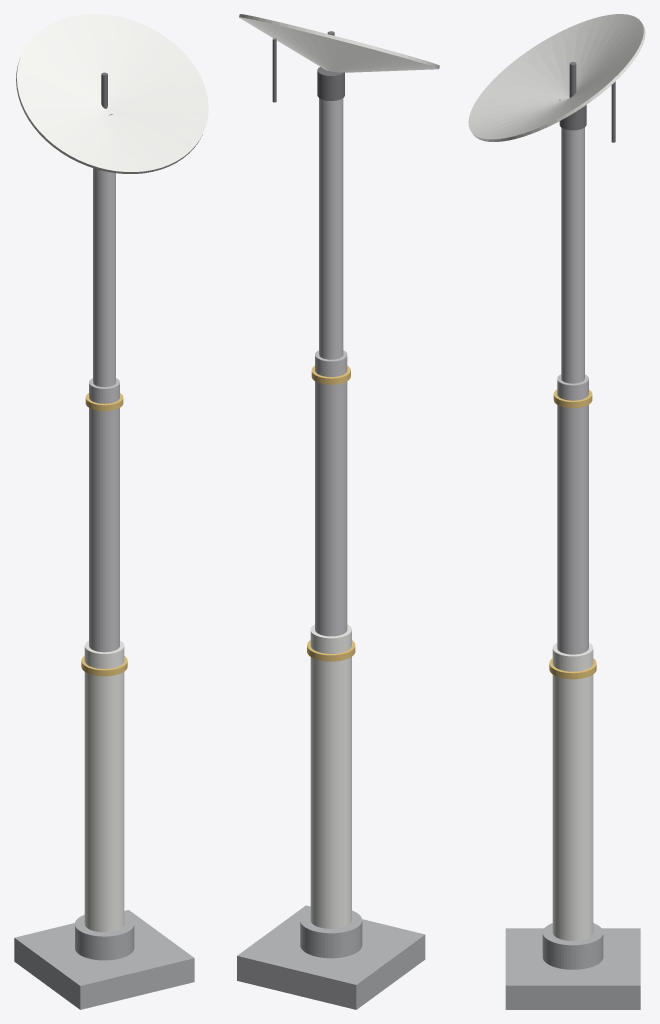
Rendered from rover36_antenna_mast_extended.glb.
The picture shows the model from 3 angles, left to right: view 1: azimuth 30°, elevation 25°; view 2: azimuth 150°, elevation 25°; view 3: azimuth 270°, elevation 25°; orthographic projection. The views are drawn at different scales.
Visible parts, largest first — view 1: head_dish, base, mast_1, mast_2, mast_3, mast_collars; view 2: base, mast_1, mast_2, mast_3, head_dish, head_gimbal, mast_collars; view 3: head_dish, mast_1, base, mast_2, mast_3, mast_collars, head_gimbal.
Part boxes in pixels (x1,y1,x2,y2): head_dish: (16, 14, 208, 173); base: (14, 910, 194, 1009); mast_1: (84, 640, 124, 932); mast_2: (89, 378, 119, 652); mast_3: (93, 168, 115, 387); mast_collars: (81, 393, 127, 676); base: (237, 905, 425, 1009); mast_1: (310, 624, 351, 928); mast_2: (315, 350, 347, 636); mast_3: (319, 98, 343, 359); head_dish: (239, 14, 439, 72); head_gimbal: (317, 31, 344, 100); mast_collars: (307, 365, 355, 661); head_dish: (468, 14, 645, 141); mast_1: (552, 643, 593, 940); base: (505, 923, 640, 1009); mast_2: (557, 374, 588, 654); mast_3: (561, 127, 584, 383); mast_collars: (549, 389, 596, 679); head_gimbal: (559, 62, 586, 130).
Size of the model in its own units: 0.5996 by 3.11 by 0.5245.
